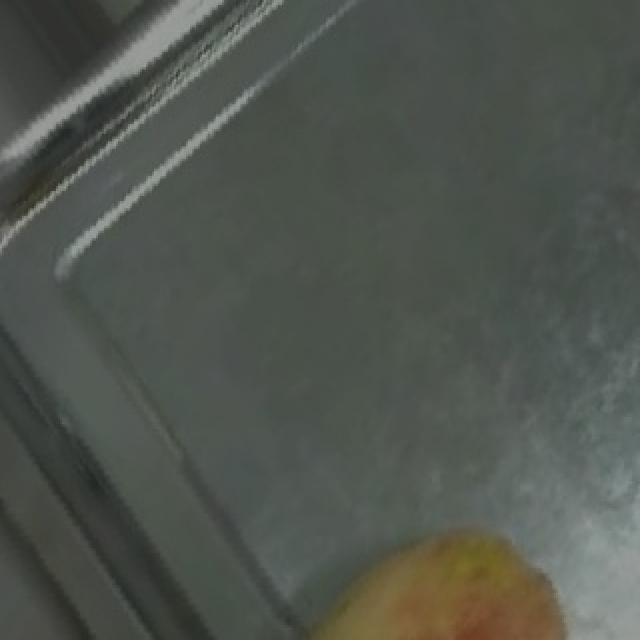Fruit: (278, 496, 592, 640)
